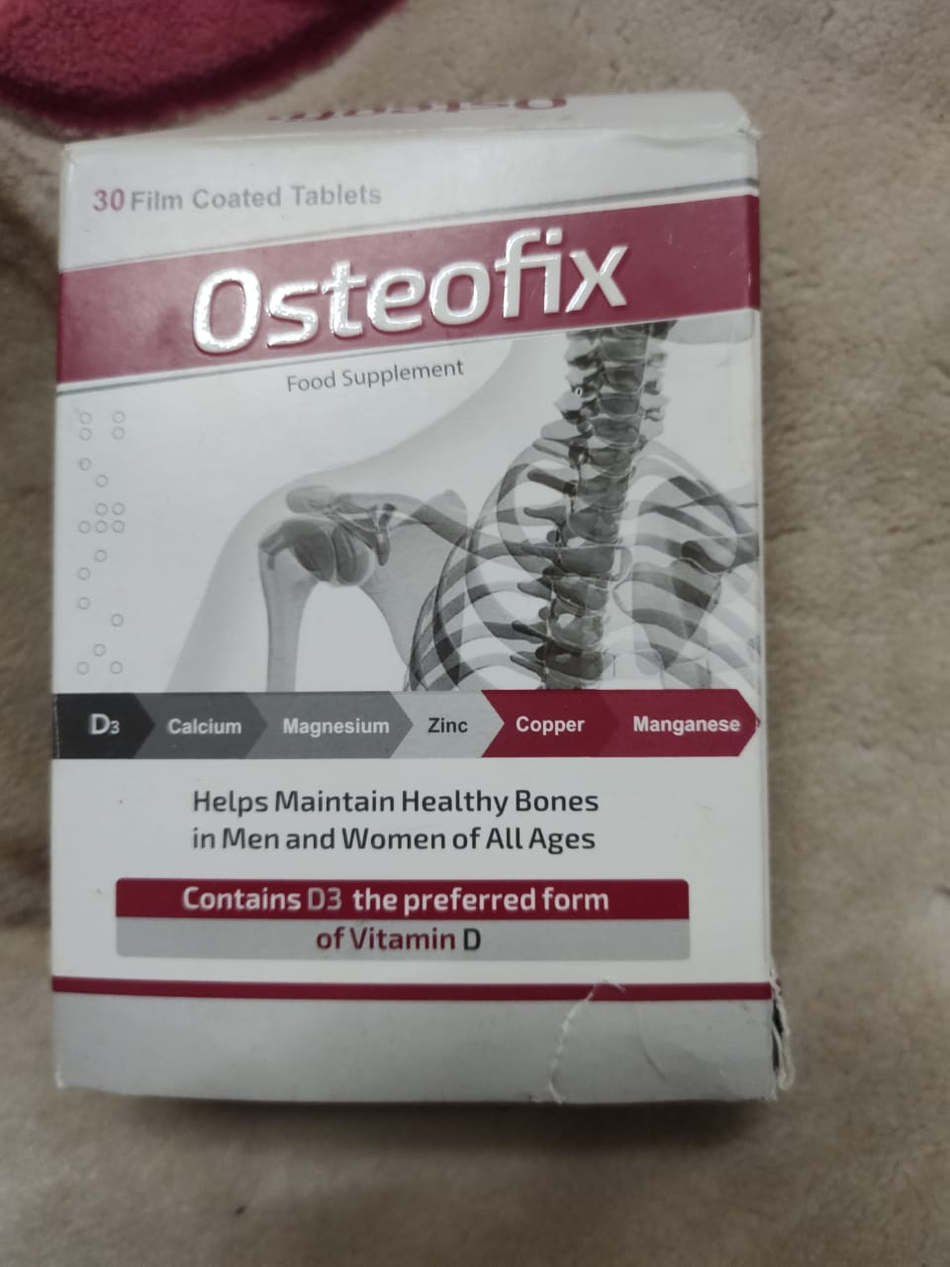Medicine: (40, 132, 788, 1122)
